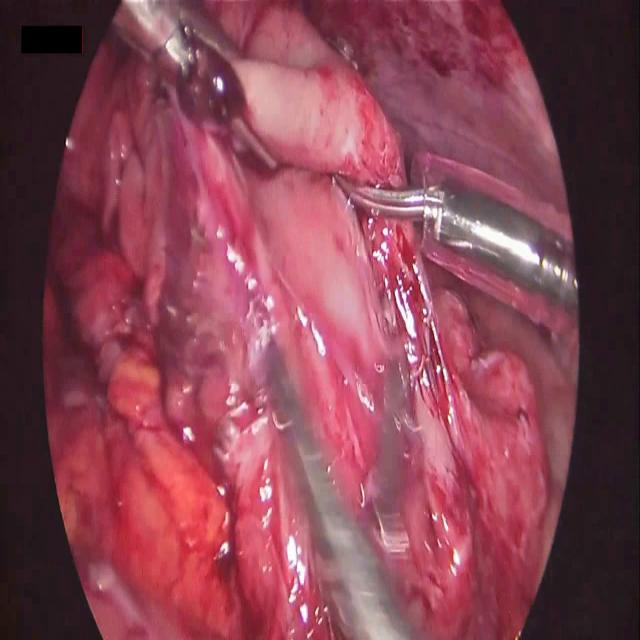surgical-area: (42, 0, 578, 639)
surgical-tool: (262, 335, 426, 639), (334, 158, 578, 343), (112, 0, 280, 170)
